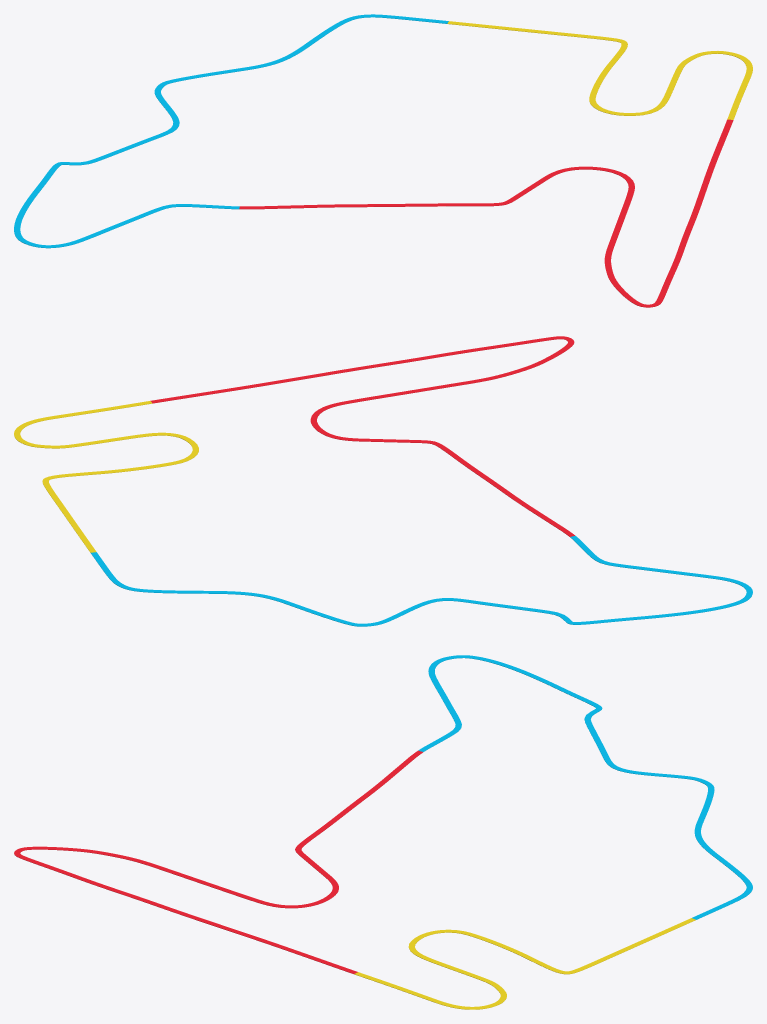
File: HungaroringSectors.glb
3 renders of one model, top to bottom at view 1: azimuth 30°, elevation 25°; view 2: azimuth 150°, elevation 25°; view 3: azimuth 270°, elevation 25°, orthographic.
Parts seen in each view (by area): view 1: SectorStrip_1, SectorStrip_2, SectorStrip_3; view 2: SectorStrip_1, SectorStrip_2, SectorStrip_3; view 3: SectorStrip_1, SectorStrip_2, SectorStrip_3.
Boxes of the visible parts, box(x1,y1,x2,y2) form: SectorStrip_1: box(239, 119, 733, 307); SectorStrip_2: box(14, 14, 448, 248); SectorStrip_3: box(447, 21, 752, 119); SectorStrip_1: box(150, 336, 574, 536); SectorStrip_2: box(91, 535, 752, 626); SectorStrip_3: box(14, 401, 198, 552); SectorStrip_1: box(14, 750, 422, 973); SectorStrip_2: box(418, 655, 752, 919); SectorStrip_3: box(354, 918, 695, 1009).
Bounding box in the file's own units: 15.84 × 0.006 × 13.96.
